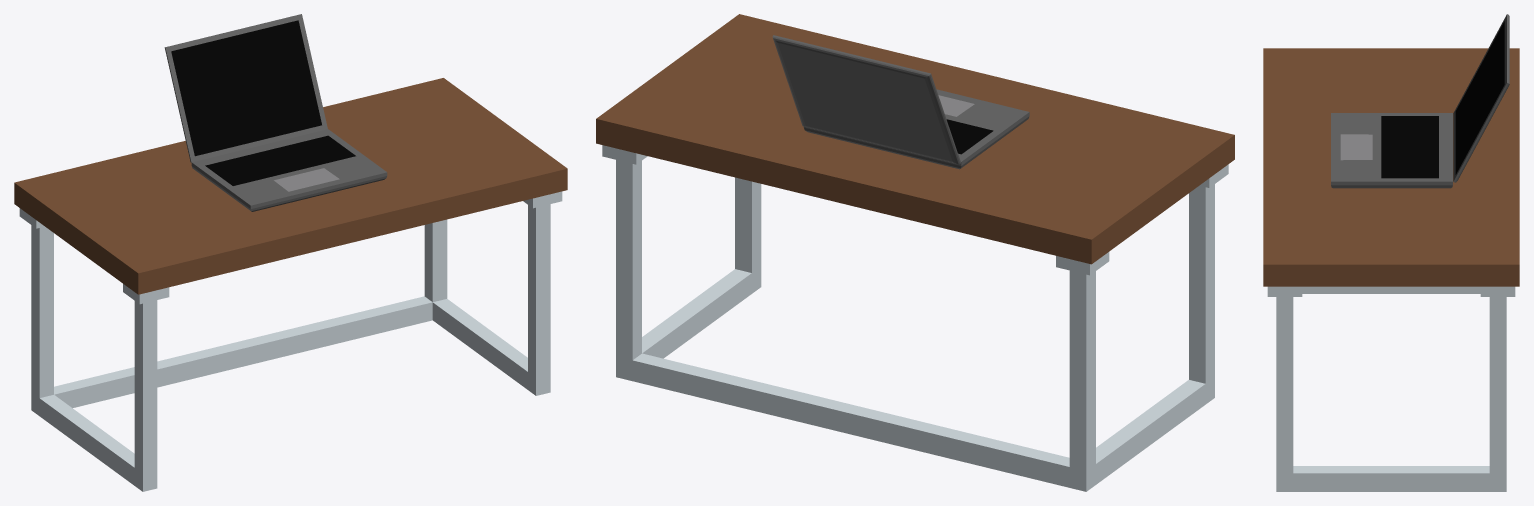
Rendered from Projectdisplay.glb.
3 renders of one model, left to right at view 1: azimuth 30°, elevation 25°; view 2: azimuth 150°, elevation 25°; view 3: azimuth 270°, elevation 25°, orthographic. The views are drawn at different scales.
Parts seen in each view (by area): view 1: Plane.003, Plane.004; view 2: Plane.003, Plane.004; view 3: Plane.003, Plane.004.
Part boxes in pixels (bbox=[...]): Plane.003: bbox=[14, 78, 567, 491]; Plane.004: bbox=[164, 14, 387, 211]; Plane.003: bbox=[596, 14, 1234, 491]; Plane.004: bbox=[772, 35, 1029, 169]; Plane.003: bbox=[1263, 48, 1519, 491]; Plane.004: bbox=[1331, 14, 1509, 188].
Size of the model in its own units: 2.06 by 1.52 by 1.03.
